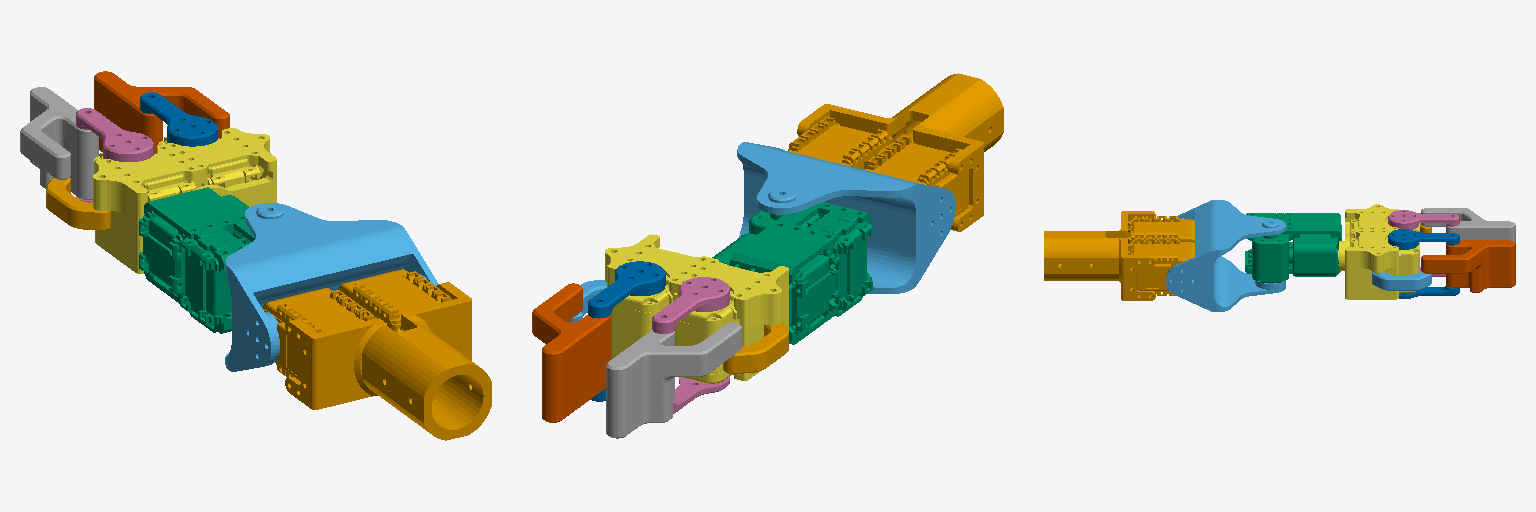
URDF robot description (gripperv4_urdf):
<?xml version="1.0" ?>
<robot name="gripperv4_urdf">

<material name="silver">
  <color rgba="0.700 0.700 0.700 1.000"/>
</material>

<link name="base_link">
  <inertial>
    <origin rpy="0 0 0" xyz="2.1845298122770527e-09 -0.09133155977238687 0.020875468296511556"/>
    <mass value="0.9490572232520995"/>
    <inertia ixx="0.0007568739764862407" ixy="-7.581926744919636e-11" ixz="-5.680485366864589e-07" iyy="0.0004955650137180254" iyz="-2.191456570078314e-06" izz="0.0011067181821056548"/>
  </inertial>
  <visual>
    <origin rpy="0 0 0" xyz="0 0 0"/>
    <geometry>
      <mesh filename="meshes/base_link.stl" scale="0.001 0.001 0.001"/>
    </geometry>
    <material name="silver"/>
    <material/>
  </visual>
  <collision>
    <origin rpy="0 0 0" xyz="0 0 0"/>
    <geometry>
      <mesh filename="meshes/base_link.stl" scale="0.001 0.001 0.001"/>
    </geometry>
  </collision>
</link>

<link name="pitch_mount1">
  <inertial>
    <origin rpy="0 0 0" xyz="-0.035381834259905855 0.022820220401733052 -0.002066974265373219"/>
    <mass value="0.08039663104912372"/>
    <inertia ixx="5.5079488185373154e-05" ixy="6.290452956291076e-09" ixz="-1.476998345826241e-09" iyy="8.035710360913775e-05" iyz="6.697592115423838e-06" izz="9.54701279205332e-05"/>
  </inertial>
  <visual>
    <origin rpy="0 0 0" xyz="-0.0354 0.063124 -0.021"/>
    <geometry>
      <mesh filename="meshes/pitch_mount1.stl" scale="0.001 0.001 0.001"/>
    </geometry>
    <material name="silver"/>
    <material/>
  </visual>
  <collision>
    <origin rpy="0 0 0" xyz="-0.0354 0.063124 -0.021"/>
    <geometry>
      <mesh filename="meshes/pitch_mount1.stl" scale="0.001 0.001 0.001"/>
    </geometry>
  </collision>
</link>

<link name="roll_yaw_servo1">
  <inertial>
    <origin rpy="0 0 0" xyz="-0.01326814497835662 0.016285248127358473 -0.018675533177308117"/>
    <mass value="0.6469480906726006"/>
    <inertia ixx="0.0002746002016814889" ixy="1.6904286845290833e-06" ixz="-1.6916061051645197e-06" iyy="0.00017062477778730236" iyz="-2.7121799154342053e-06" izz="0.0003418215533997067"/>
  </inertial>
  <visual>
    <origin rpy="0 0 0" xyz="-1.7e-05 -0.0 -0.0394"/>
    <geometry>
      <mesh filename="meshes/roll_yaw_servo1.stl" scale="0.001 0.001 0.001"/>
    </geometry>
    <material name="silver"/>
    <material/>
  </visual>
  <collision>
    <origin rpy="0 0 0" xyz="-1.7e-05 -0.0 -0.0394"/>
    <geometry>
      <mesh filename="meshes/roll_yaw_servo1.stl" scale="0.001 0.001 0.001"/>
    </geometry>
  </collision>
</link>

<link name="gripper_mount1">
  <inertial>
    <origin rpy="0 0 0" xyz="-4.6437802248194846e-05 0.03250667598502349 0.0006919679540483038"/>
    <mass value="0.6706735500880907"/>
    <inertia ixx="0.0001986099505892477" ixy="3.333842818161151e-08" ixz="-1.0719360784550332e-08" iyy="0.00028400311621074243" iyz="3.4296185590131437e-06" izz="0.00035331018300921967"/>
  </inertial>
  <visual>
    <origin rpy="0 0 0" xyz="-1.7e-05 -0.0484 -0.021"/>
    <geometry>
      <mesh filename="meshes/gripper_mount1.stl" scale="0.001 0.001 0.001"/>
    </geometry>
    <material name="silver"/>
    <material/>
  </visual>
  <collision>
    <origin rpy="0 0 0" xyz="-1.7e-05 -0.0484 -0.021"/>
    <geometry>
      <mesh filename="meshes/gripper_mount1.stl" scale="0.001 0.001 0.001"/>
    </geometry>
  </collision>
</link>

<link name="r_link11">
  <inertial>
    <origin rpy="0 0 0" xyz="9.352171946239163e-08 0.004350148087522404 -0.003859751771437374"/>
    <mass value="0.01374798583124482"/>
    <inertia ixx="5.113549372910367e-06" ixy="4.2739737191543024e-13" ixz="1.2038653121528454e-14" iyy="3.641119461981209e-06" iyz="6.91407705066787e-07" izz="2.198264803870368e-06"/>
  </inertial>
  <visual>
    <origin rpy="0 0 0" xyz="-0.016017 -0.095 -0.0374"/>
    <geometry>
      <mesh filename="meshes/r_link11.stl" scale="0.001 0.001 0.001"/>
    </geometry>
    <material name="silver"/>
    <material/>
  </visual>
  <collision>
    <origin rpy="0 0 0" xyz="-0.016017 -0.095 -0.0374"/>
    <geometry>
      <mesh filename="meshes/r_link11.stl" scale="0.001 0.001 0.001"/>
    </geometry>
  </collision>
</link>

<link name="r_finger1">
  <inertial>
    <origin rpy="0 0 0" xyz="0.004967469486381864 0.01646646237182653 -0.015003164576295747"/>
    <mass value="0.023712538812289255"/>
    <inertia ixx="7.480893497853968e-06" ixy="1.644761746358482e-06" ixz="-8.084220968588434e-07" iyy="4.228351596863051e-06" iyz="7.949572091044257e-07" izz="7.057269596271506e-06"/>
  </inertial>
  <visual>
    <origin rpy="0 0 0" xyz="-0.016017 -0.13 -0.039"/>
    <geometry>
      <mesh filename="meshes/r_finger1.stl" scale="0.001 0.001 0.001"/>
    </geometry>
    <material name="silver"/>
    <material/>
  </visual>
  <collision>
    <origin rpy="0 0 0" xyz="-0.016017 -0.13 -0.039"/>
    <geometry>
      <mesh filename="meshes/r_finger1.stl" scale="0.001 0.001 0.001"/>
    </geometry>
  </collision>
</link>

<link name="l_link11">
  <inertial>
    <origin rpy="0 0 0" xyz="9.506871556999585e-08 0.004350155042648504 -0.0038597459406704976"/>
    <mass value="0.013747989643093032"/>
    <inertia ixx="5.113550520519718e-06" ixy="1.2936395390236027e-15" ixz="-1.0252029395774534e-15" iyy="3.6411181184070582e-06" iyz="6.914056469586679e-07" izz="2.198267109479251e-06"/>
  </inertial>
  <visual>
    <origin rpy="0 0 0" xyz="0.015983 -0.095 -0.0374"/>
    <geometry>
      <mesh filename="meshes/l_link11.stl" scale="0.001 0.001 0.001"/>
    </geometry>
    <material name="silver"/>
    <material/>
  </visual>
  <collision>
    <origin rpy="0 0 0" xyz="0.015983 -0.095 -0.0374"/>
    <geometry>
      <mesh filename="meshes/l_link11.stl" scale="0.001 0.001 0.001"/>
    </geometry>
  </collision>
</link>

<link name="l_finger1">
  <inertial>
    <origin rpy="0 0 0" xyz="-0.004967279382909973 0.01646646237182653 -0.015003164576295747"/>
    <mass value="0.023712538812289255"/>
    <inertia ixx="7.480893497853751e-06" ixy="-1.6447617463578857e-06" ixz="8.084220968587147e-07" iyy="4.228351596862445e-06" iyz="7.949572091044393e-07" izz="7.0572695962706385e-06"/>
  </inertial>
  <visual>
    <origin rpy="0 0 0" xyz="0.015983 -0.13 -0.039"/>
    <geometry>
      <mesh filename="meshes/l_finger1.stl" scale="0.001 0.001 0.001"/>
    </geometry>
    <material name="silver"/>
    <material/>
  </visual>
  <collision>
    <origin rpy="0 0 0" xyz="0.015983 -0.13 -0.039"/>
    <geometry>
      <mesh filename="meshes/l_finger1.stl" scale="0.001 0.001 0.001"/>
    </geometry>
  </collision>
</link>

<link name="l_link21">
  <inertial>
    <origin rpy="0 0 0" xyz="-0.005348338062402411 0.017499999999999932 -0.004999999999999647"/>
    <mass value="0.00386409068463368"/>
    <inertia ixx="5.880610802511967e-07" ixy="3.3881317890172014e-21" ixz="0.0" iyy="8.932087513984234e-08" iyz="1.6940658945086007e-21" izz="6.159953032271854e-07"/>
  </inertial>
  <visual>
    <origin rpy="0 0 0" xyz="0.0396 -0.0765 -0.027"/>
    <geometry>
      <mesh filename="meshes/l_link21.stl" scale="0.001 0.001 0.001"/>
    </geometry>
    <material name="silver"/>
    <material/>
  </visual>
  <collision>
    <origin rpy="0 0 0" xyz="0.0396 -0.0765 -0.027"/>
    <geometry>
      <mesh filename="meshes/l_link21.stl" scale="0.001 0.001 0.001"/>
    </geometry>
  </collision>
</link>

<link name="r_link21">
  <inertial>
    <origin rpy="0 0 0" xyz="0.005348528165873591 0.017499999999999932 -0.004999999999999647"/>
    <mass value="0.0038640906846336806"/>
    <inertia ixx="5.880610802511967e-07" ixy="0.0" ixz="-8.470329472543003e-22" iyy="8.932087513984065e-08" iyz="1.6940658945086007e-21" izz="6.159953032271854e-07"/>
  </inertial>
  <visual>
    <origin rpy="0 0 0" xyz="-0.039634 -0.0765 -0.027"/>
    <geometry>
      <mesh filename="meshes/r_link21.stl" scale="0.001 0.001 0.001"/>
    </geometry>
    <material name="silver"/>
    <material/>
  </visual>
  <collision>
    <origin rpy="0 0 0" xyz="-0.039634 -0.0765 -0.027"/>
    <geometry>
      <mesh filename="meshes/r_link21.stl" scale="0.001 0.001 0.001"/>
    </geometry>
  </collision>
</link>

<joint name="Rev27" type="continuous">
  <origin rpy="0 0 0" xyz="0.0354 -0.063124 0.021"/>
  <parent link="base_link"/>
  <child link="pitch_mount1"/>
  <axis xyz="1.0 0.0 0.0"/>
</joint>
<transmission name="Rev27_tran">
  <type>transmission_interface/SimpleTransmission</type>
  <joint name="Rev27">
    <hardwareInterface>PositionJointInterface</hardwareInterface>
  </joint>
  <actuator name="Rev27_actr">
    <hardwareInterface>PositionJointInterface</hardwareInterface>
    <mechanicalReduction>1</mechanicalReduction>
  </actuator>
</transmission>

<joint name="Rev28" type="continuous">
  <origin rpy="0 0 0" xyz="-0.035383 0.063124 0.0184"/>
  <parent link="pitch_mount1"/>
  <child link="roll_yaw_servo1"/>
  <axis xyz="0.0 0.0 1.0"/>
</joint>
<transmission name="Rev28_tran">
  <type>transmission_interface/SimpleTransmission</type>
  <joint name="Rev28">
    <hardwareInterface>PositionJointInterface</hardwareInterface>
  </joint>
  <actuator name="Rev28_actr">
    <hardwareInterface>PositionJointInterface</hardwareInterface>
    <mechanicalReduction>1</mechanicalReduction>
  </actuator>
</transmission>

<joint name="Rev29" type="continuous">
  <origin rpy="0 0 0" xyz="0.0 0.0484 -0.0184"/>
  <parent link="roll_yaw_servo1"/>
  <child link="gripper_mount1"/>
  <axis xyz="0.0 1.0 -0.0"/>
</joint>
<transmission name="Rev29_tran">
  <type>transmission_interface/SimpleTransmission</type>
  <joint name="Rev29">
    <hardwareInterface>PositionJointInterface</hardwareInterface>
  </joint>
  <actuator name="Rev29_actr">
    <hardwareInterface>PositionJointInterface</hardwareInterface>
    <mechanicalReduction>1</mechanicalReduction>
  </actuator>
</transmission>

<joint name="Rev30" type="continuous">
  <origin rpy="0 0 0" xyz="0.016 0.0466 0.0164"/>
  <parent link="gripper_mount1"/>
  <child link="r_link11"/>
  <axis xyz="0.0 -0.0 1.0"/>
</joint>
<transmission name="Rev30_tran">
  <type>transmission_interface/SimpleTransmission</type>
  <joint name="Rev30">
    <hardwareInterface>PositionJointInterface</hardwareInterface>
  </joint>
  <actuator name="Rev30_actr">
    <hardwareInterface>PositionJointInterface</hardwareInterface>
    <mechanicalReduction>1</mechanicalReduction>
  </actuator>
</transmission>

<joint name="Rev31" type="continuous">
  <origin rpy="0 0 0" xyz="0.0 0.035 0.0016"/>
  <parent link="r_link11"/>
  <child link="r_finger1"/>
  <axis xyz="0.0 -0.0 1.0"/>
</joint>
<transmission name="Rev31_tran">
  <type>transmission_interface/SimpleTransmission</type>
  <joint name="Rev31">
    <hardwareInterface>PositionJointInterface</hardwareInterface>
  </joint>
  <actuator name="Rev31_actr">
    <hardwareInterface>PositionJointInterface</hardwareInterface>
    <mechanicalReduction>1</mechanicalReduction>
  </actuator>
</transmission>

<joint name="Rev32" type="continuous">
  <origin rpy="0 0 0" xyz="-0.016 0.0466 0.0164"/>
  <parent link="gripper_mount1"/>
  <child link="l_link11"/>
  <axis xyz="0.0 -0.0 1.0"/>
</joint>
<transmission name="Rev32_tran">
  <type>transmission_interface/SimpleTransmission</type>
  <joint name="Rev32">
    <hardwareInterface>PositionJointInterface</hardwareInterface>
  </joint>
  <actuator name="Rev32_actr">
    <hardwareInterface>PositionJointInterface</hardwareInterface>
    <mechanicalReduction>1</mechanicalReduction>
  </actuator>
</transmission>

<joint name="Rev33" type="continuous">
  <origin rpy="0 0 0" xyz="0.0 0.035 0.0016"/>
  <parent link="l_link11"/>
  <child link="l_finger1"/>
  <axis xyz="-0.0 0.0 -1.0"/>
</joint>
<transmission name="Rev33_tran">
  <type>transmission_interface/SimpleTransmission</type>
  <joint name="Rev33">
    <hardwareInterface>PositionJointInterface</hardwareInterface>
  </joint>
  <actuator name="Rev33_actr">
    <hardwareInterface>PositionJointInterface</hardwareInterface>
    <mechanicalReduction>1</mechanicalReduction>
  </actuator>
</transmission>

<joint name="Rev34" type="continuous">
  <origin rpy="0 0 0" xyz="-0.039617 0.0281 0.006"/>
  <parent link="gripper_mount1"/>
  <child link="l_link21"/>
  <axis xyz="-0.0 0.0 -1.0"/>
</joint>
<transmission name="Rev34_tran">
  <type>transmission_interface/SimpleTransmission</type>
  <joint name="Rev34">
    <hardwareInterface>PositionJointInterface</hardwareInterface>
  </joint>
  <actuator name="Rev34_actr">
    <hardwareInterface>PositionJointInterface</hardwareInterface>
    <mechanicalReduction>1</mechanicalReduction>
  </actuator>
</transmission>

<joint name="Rev35" type="continuous">
  <origin rpy="0 0 0" xyz="0.039617 0.0281 0.006"/>
  <parent link="gripper_mount1"/>
  <child link="r_link21"/>
  <axis xyz="0.0 -0.0 1.0"/>
</joint>
<transmission name="Rev35_tran">
  <type>transmission_interface/SimpleTransmission</type>
  <joint name="Rev35">
    <hardwareInterface>PositionJointInterface</hardwareInterface>
  </joint>
  <actuator name="Rev35_actr">
    <hardwareInterface>PositionJointInterface</hardwareInterface>
    <mechanicalReduction>1</mechanicalReduction>
  </actuator>
</transmission>

</robot>

--- Facts derived from the render (not from the file) ---
Views: 3 orthographic renders of the robot side by side, from view 1: azimuth 30°, elevation 25°; view 2: azimuth 150°, elevation 25°; view 3: azimuth 270°, elevation 25°.
Model gripperv4_urdf with 10 links and 9 joints (9 continuous), rooted at base_link, posed every joint at zero.
Links seen in each view (by area): view 1: base_link, pitch_mount1, gripper_mount1, roll_yaw_servo1, l_finger1, r_finger1, l_link11, r_link11, l_link21; view 2: base_link, pitch_mount1, roll_yaw_servo1, gripper_mount1, l_finger1, r_finger1, l_link11, r_link11, l_link21; view 3: base_link, pitch_mount1, roll_yaw_servo1, gripper_mount1, r_finger1, l_finger1, r_link11, l_link11, r_link21.
Link boxes in pixels (x1,y1,x2,y2): base_link: (263, 269, 491, 440); pitch_mount1: (225, 203, 437, 371); gripper_mount1: (93, 128, 276, 273); roll_yaw_servo1: (139, 187, 254, 333); l_finger1: (20, 87, 98, 199); r_finger1: (94, 71, 229, 153); l_link11: (76, 108, 153, 202); r_link11: (140, 92, 217, 146); l_link21: (46, 177, 110, 230); base_link: (788, 73, 1003, 231); pitch_mount1: (737, 142, 955, 293); roll_yaw_servo1: (712, 202, 872, 344); gripper_mount1: (605, 234, 788, 383); l_finger1: (606, 322, 741, 438); r_finger1: (532, 283, 610, 422); l_link11: (652, 277, 729, 413); r_link11: (588, 261, 665, 401); l_link21: (723, 322, 788, 373); base_link: (1044, 211, 1194, 300); pitch_mount1: (1166, 200, 1285, 311); roll_yaw_servo1: (1245, 213, 1341, 282); gripper_mount1: (1338, 204, 1419, 299); r_finger1: (1421, 240, 1515, 292); l_finger1: (1421, 208, 1515, 243); r_link11: (1388, 229, 1459, 298); l_link11: (1388, 210, 1459, 276); r_link21: (1372, 272, 1431, 290).
Size in the robot's own frame: 0.1032 by 0.3366 by 0.051 metres.
Meshes: 10 distinct files referenced, 10 mesh visuals loaded (10 binary STL).